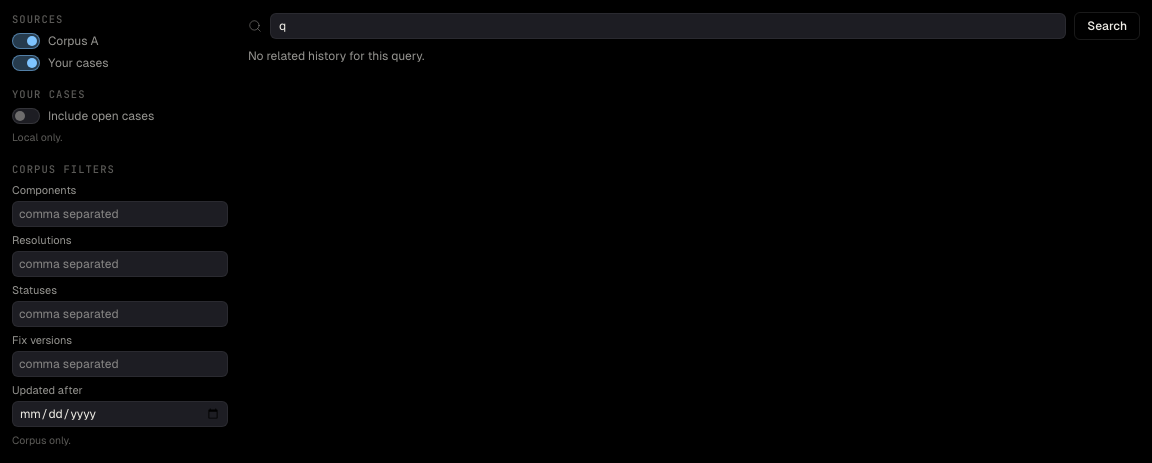
Scenario: RelatedHistoryExplorer › the rail survives a provider dropping out of a single round › keeps a health-only row in the rail through a later failed request
The image size is (1152, 463).
Expected: the switch named "Search Your cases" is shown, [12, 55, 228, 71]
Replace the text in the field named "Search related history" with "battery soc" at [668, 26], box [270, 13, 1066, 39]
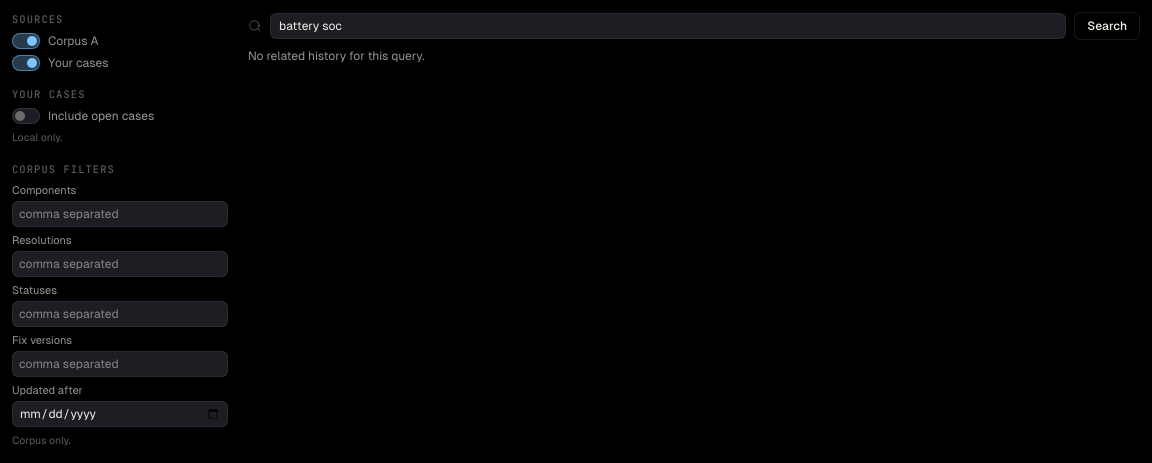
Submit the form, box [248, 12, 1140, 40]
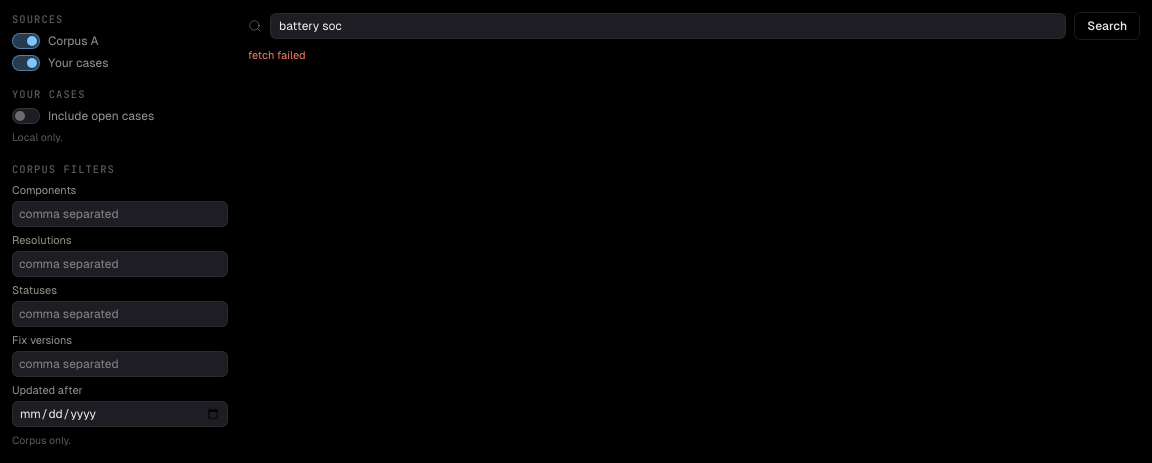
Expected: the switch named "Search Your cases" is shown, [12, 55, 228, 71]
Now the text "fetch failed" is shown, box [248, 49, 306, 61]
